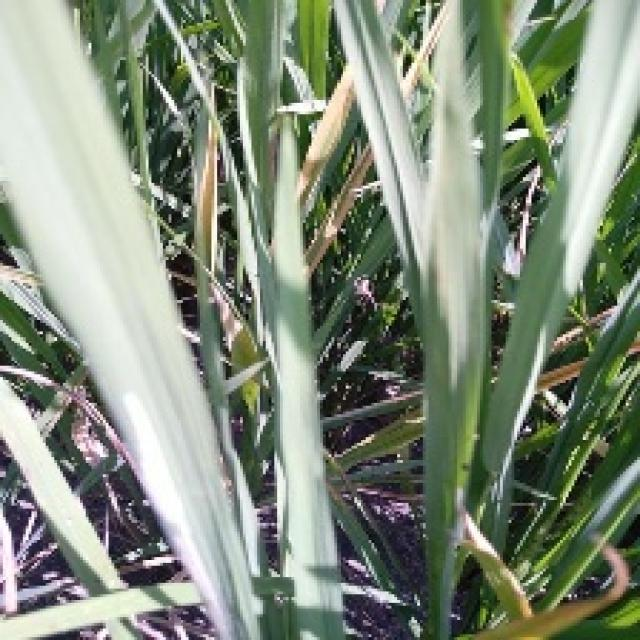Unhealthy: (467, 531, 630, 640), (305, 142, 373, 277), (296, 64, 356, 215), (465, 511, 534, 619), (204, 265, 257, 366), (403, 6, 448, 96), (195, 118, 220, 278), (74, 394, 131, 463), (71, 409, 109, 465), (535, 357, 589, 396), (552, 325, 584, 355), (589, 307, 614, 329), (241, 380, 257, 413), (629, 332, 640, 354), (373, 0, 392, 12)
